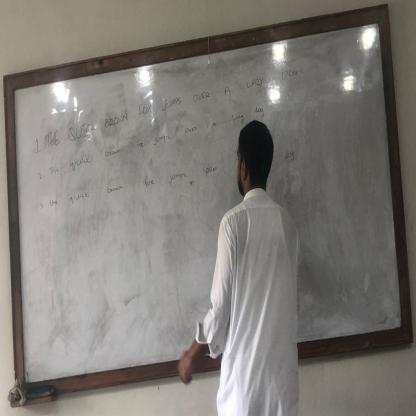Handwritten text: (37, 51, 310, 155), (40, 96, 276, 182), (45, 144, 232, 223)
Lecturer: (197, 115, 310, 409)
